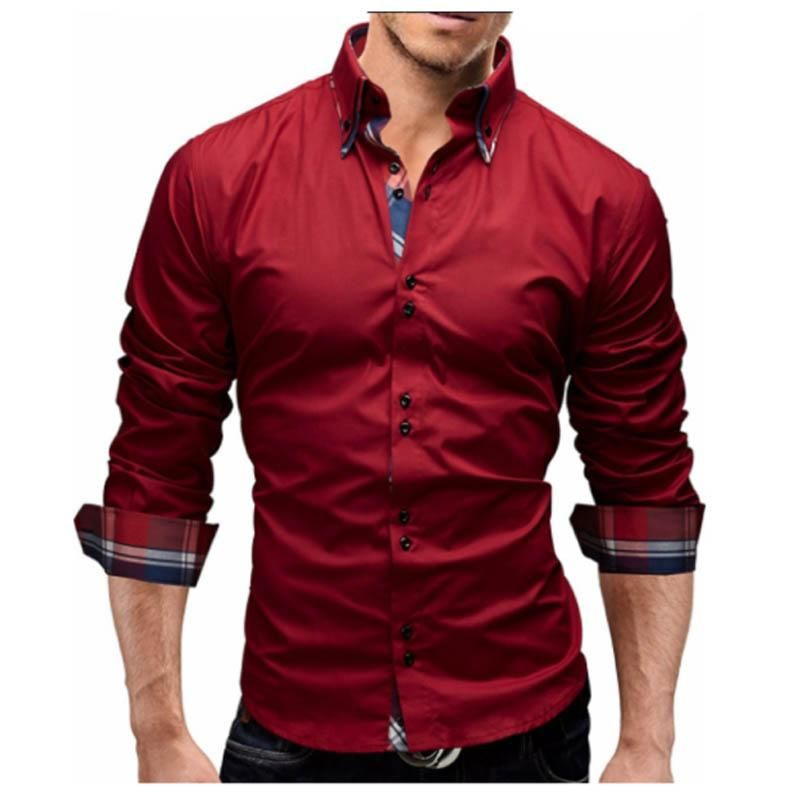long-sleeved official shirt: (87, 23, 717, 740)
